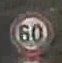limite 60: (7, 9, 55, 57)
